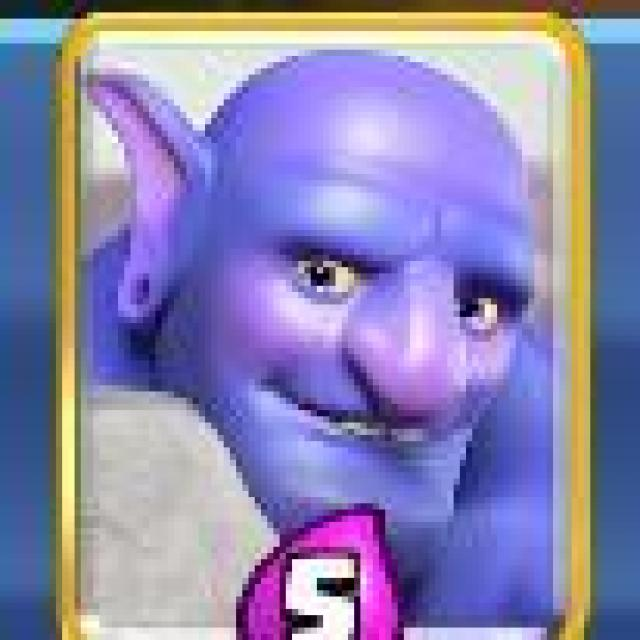Bowler: (53, 13, 594, 640)
